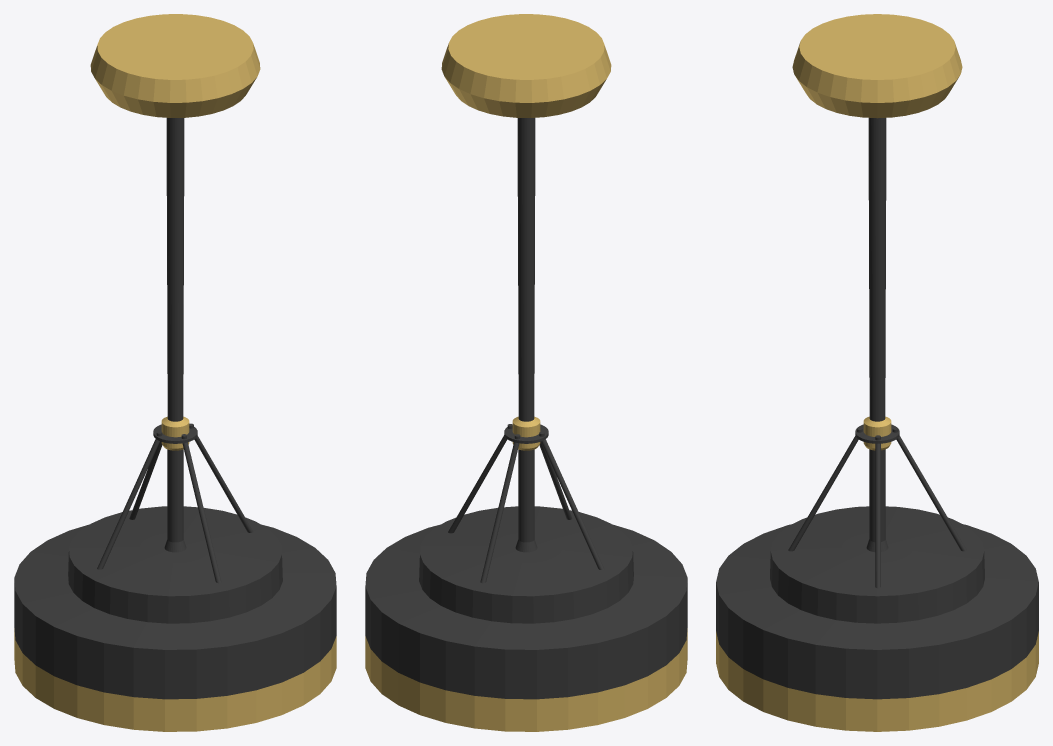
File: kitchenLamp.fbx
The picture shows the model from 3 angles, left to right: view 1: azimuth 30°, elevation 25°; view 2: azimuth 150°, elevation 25°; view 3: azimuth 270°, elevation 25°; orthographic projection.
Visible parts, largest first — view 1: kitchenLamp; view 2: kitchenLamp; view 3: kitchenLamp.
Part boxes in pixels (box(x1,y1,x2,y2)): kitchenLamp: box(14, 14, 336, 731); kitchenLamp: box(365, 14, 687, 731); kitchenLamp: box(716, 14, 1038, 731).
Bounding box in the file's own units: 56.94 × 120 × 56.94.
